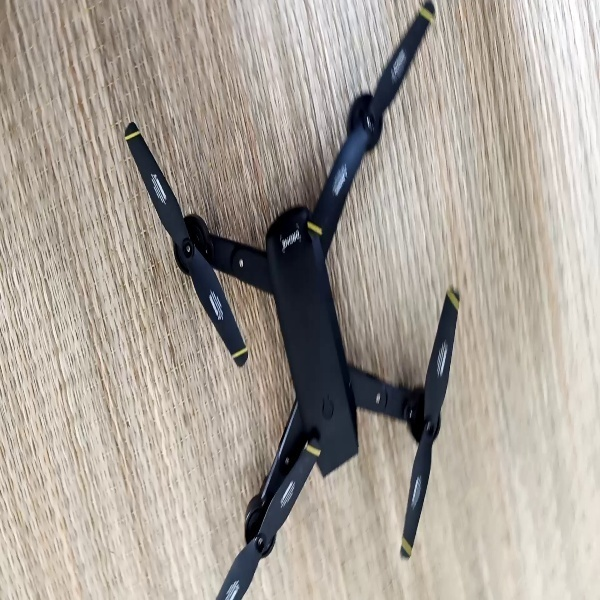drone: (121, 4, 464, 600)
